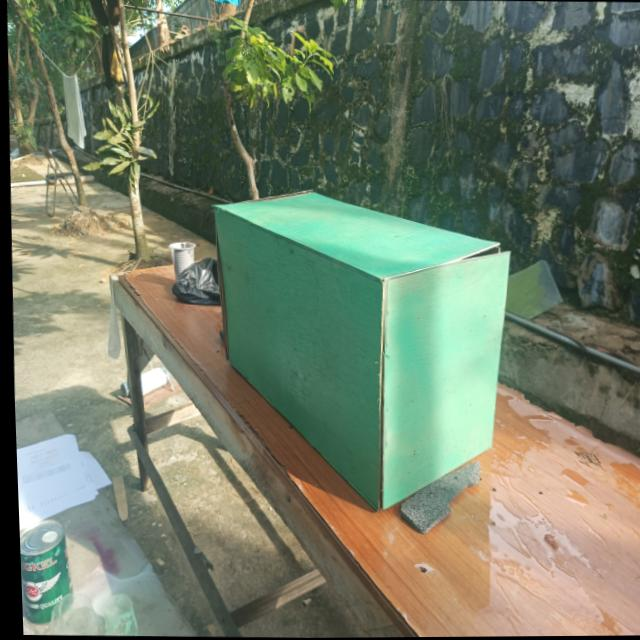green_box: (187, 140, 528, 546)
